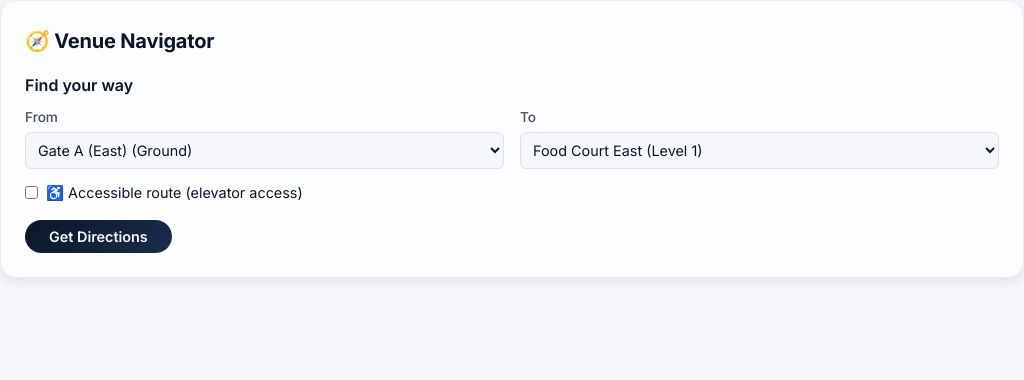
it: VenueNavigator › shows 'already here' for same origin and destination
# Both default to gate-a, so set "To" to gate-a as well
Select "Gate A (East) (Ground)" in the dropdown labelled "To": (760,151) [520,132,999,169]
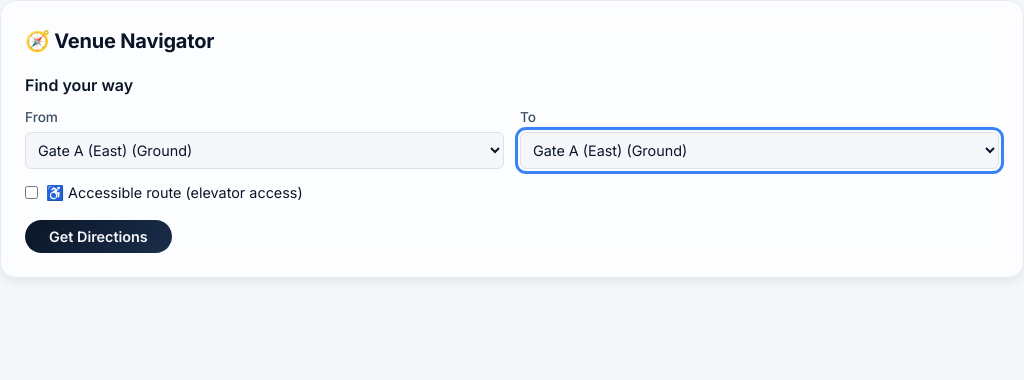
Click the button "Get Directions": (98,237) [25,220,172,253]
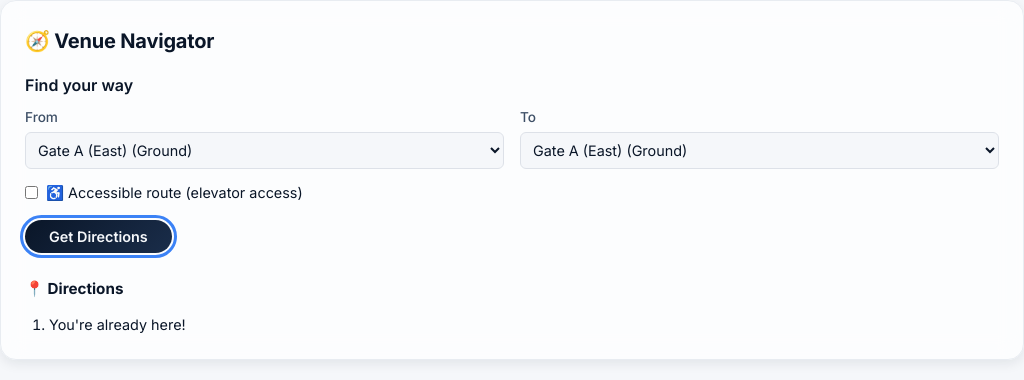
expect the list item "You're already here!" is shown: met, box [49,316,186,333]
